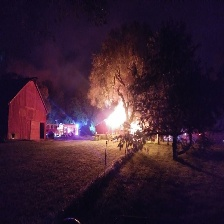fire: (109, 110, 139, 128)
